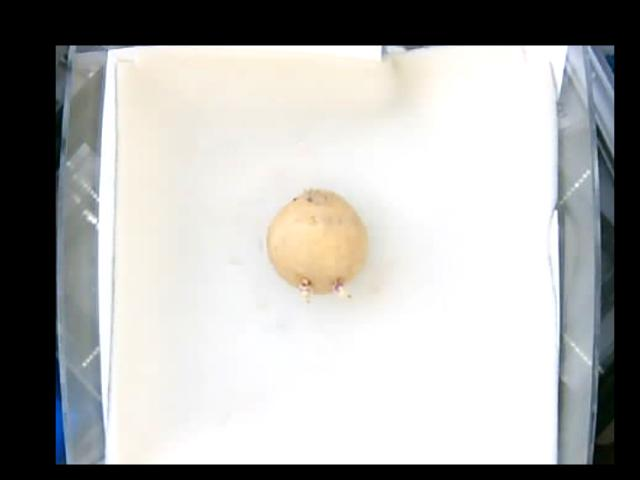Potato: (267, 188, 367, 300)
